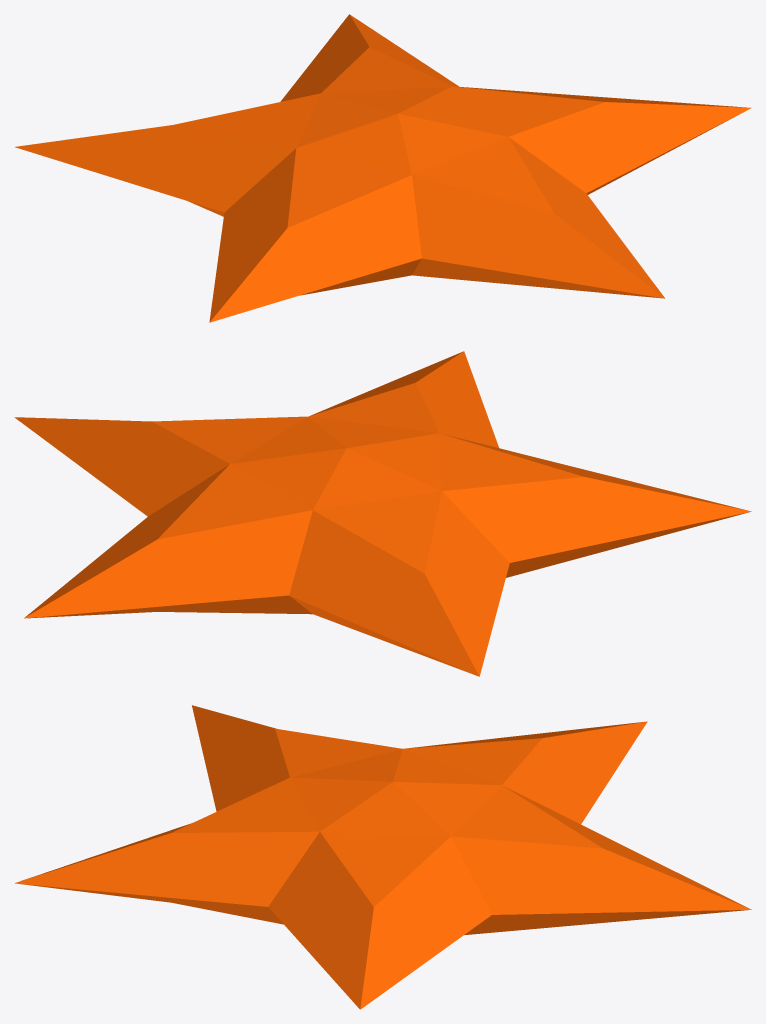
The model's file is Star02.fbx.
3 renders of one model, top to bottom at view 1: azimuth 30°, elevation 25°; view 2: azimuth 150°, elevation 25°; view 3: azimuth 270°, elevation 25°, orthographic. The views are drawn at different scales.
Parts seen in each view (by area): view 1: Star02; view 2: Star02; view 3: Star02.
Boxes of the visible parts, x1,y1,x2,y2 form: Star02: [15, 14, 750, 322]; Star02: [14, 351, 751, 676]; Star02: [15, 705, 751, 1009].
Bounding box in the file's own units: 11.7 × 2.3 × 11.98.
